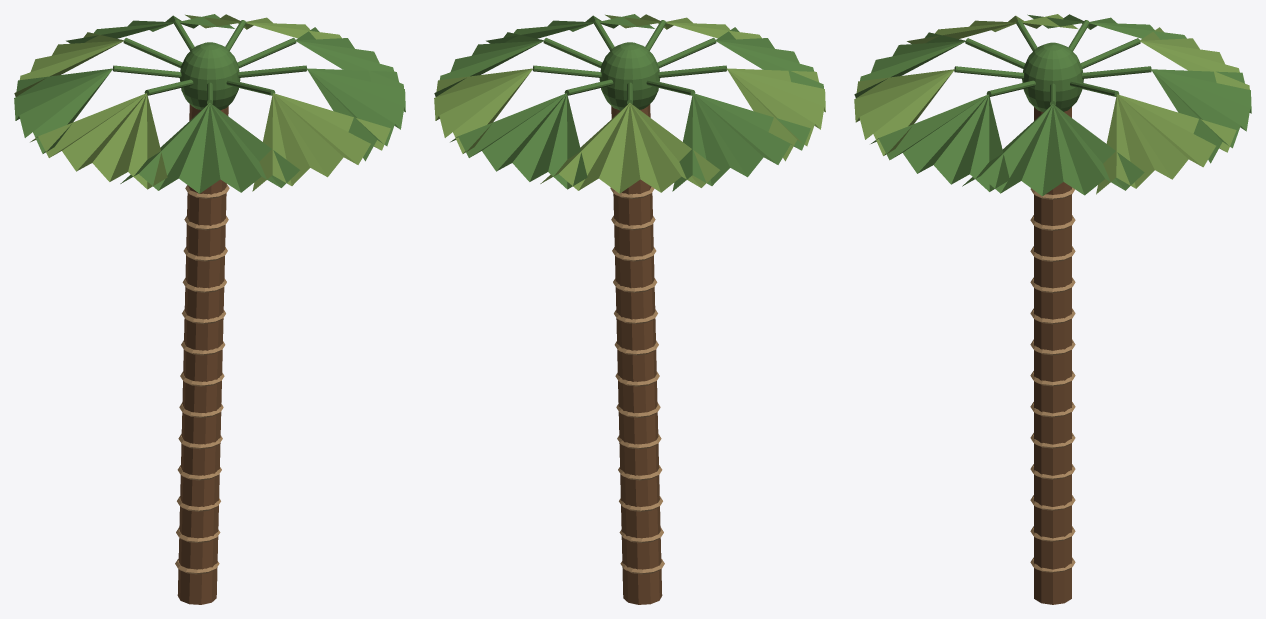
File: palm-ultra.glb
3 renders of one model, left to right at view 1: azimuth 30°, elevation 25°; view 2: azimuth 150°, elevation 25°; view 3: azimuth 270°, elevation 25°, orthographic.
Visible parts, largest first — view 1: palm; view 2: palm; view 3: palm.
Part boxes in pixels (left/top/right/bottom): palm: left=14, top=14, right=405, bottom=604; palm: left=434, top=14, right=825, bottom=604; palm: left=854, top=14, right=1251, bottom=604.
Bounding box in the file's own units: 3.2 × 4.95 × 3.2.
